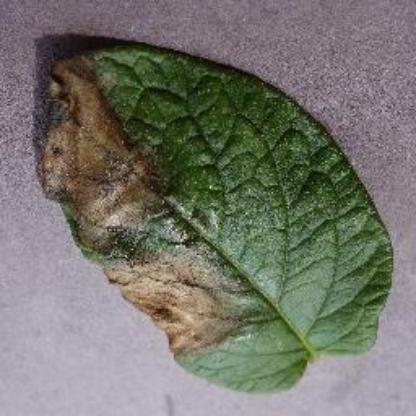Late-Blight: (34, 21, 398, 399)
